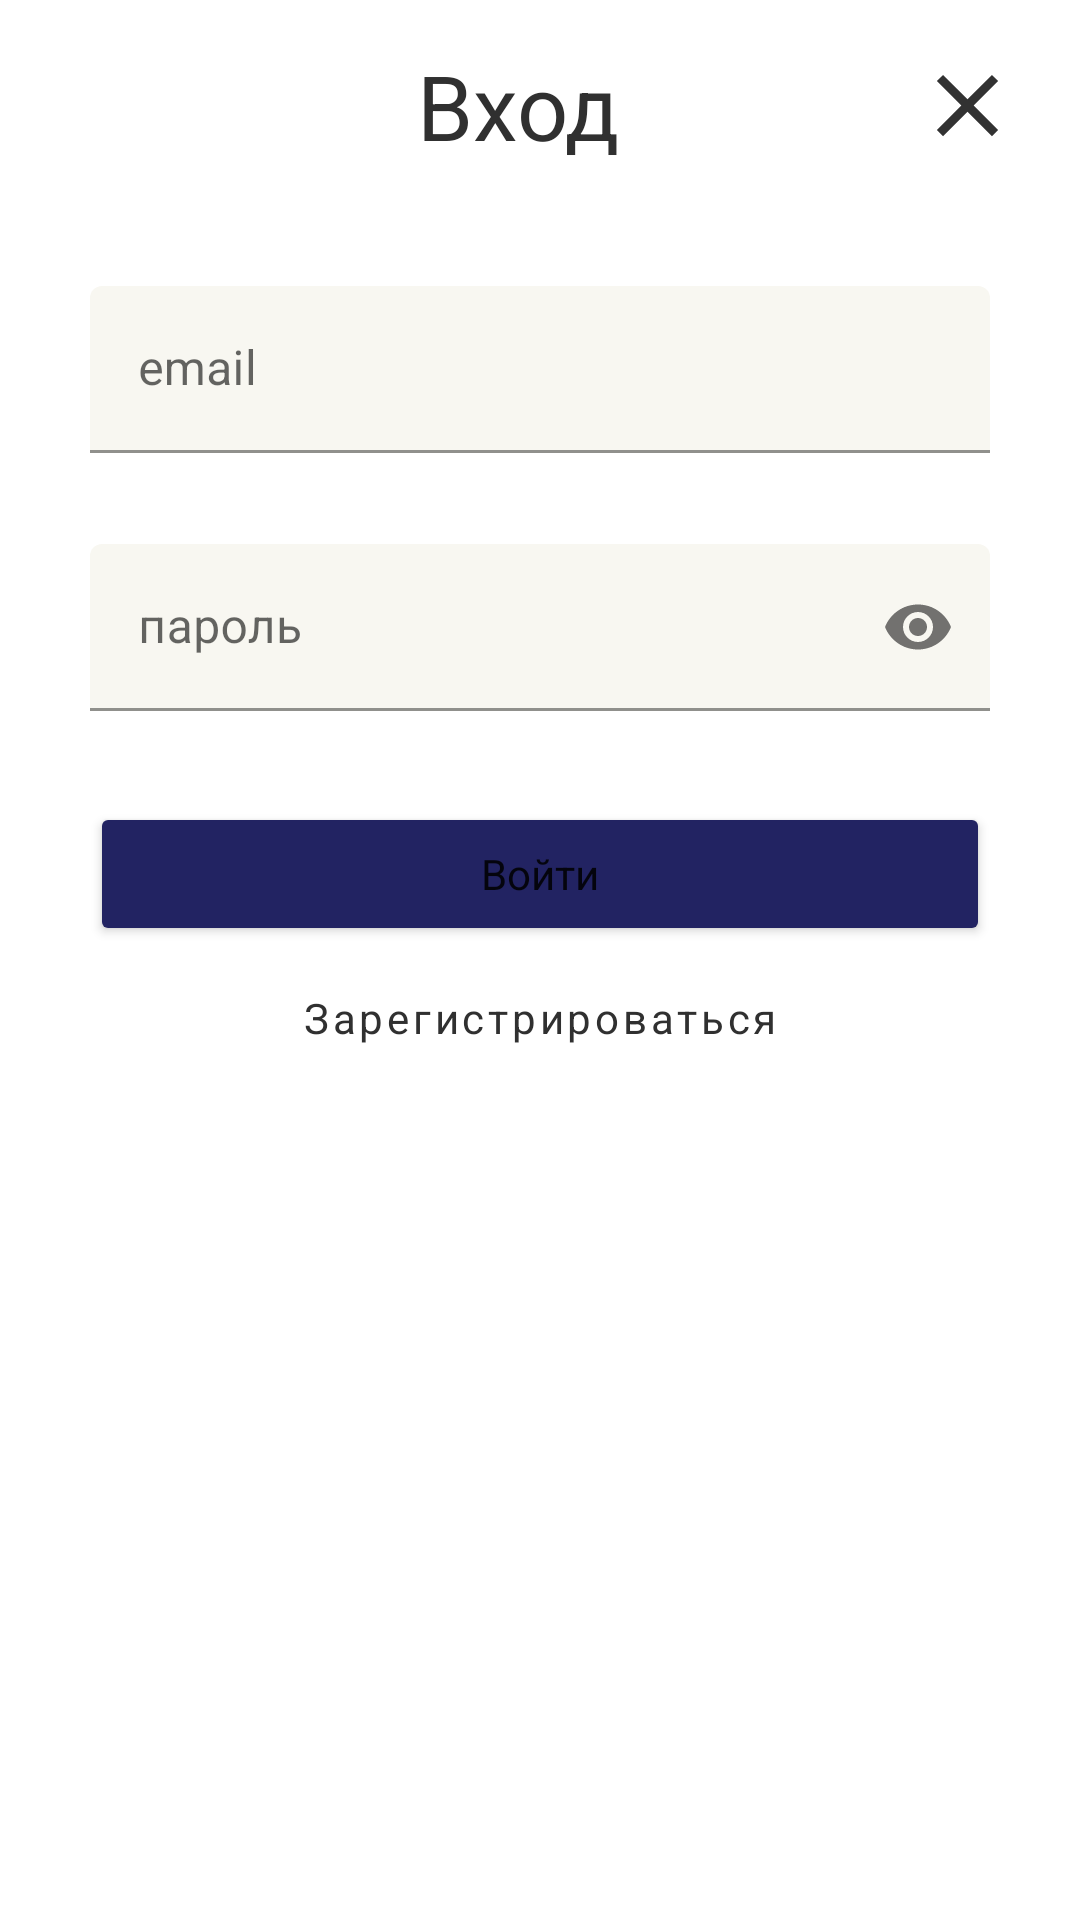

Named icons in this screenshot (1080 × 1920) and their centers, (x,y):
clear: (967,105)
